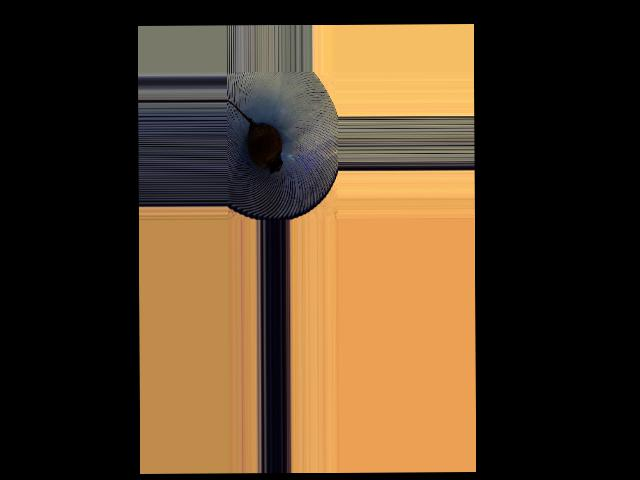beet: (226, 100, 281, 174)
